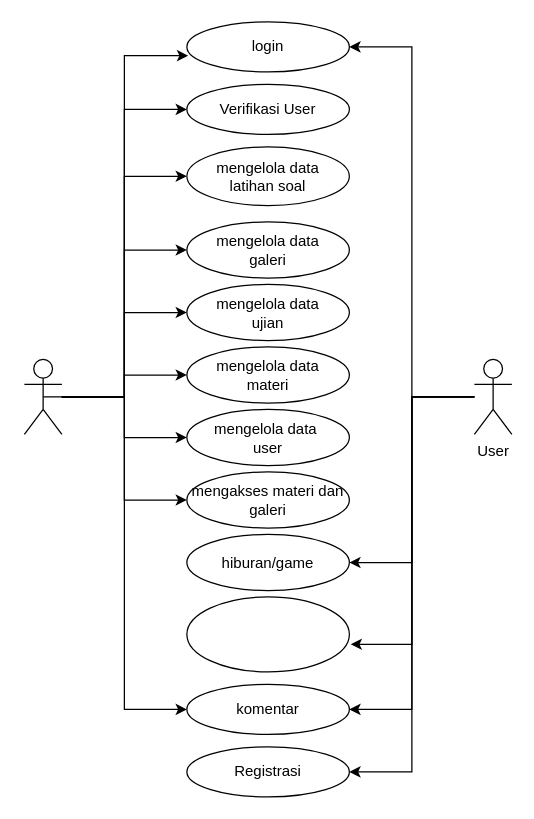
Some shapes in this 534 by 819 pixel diagram are drawn without their labels. Here are the shapes that lost their labels. From the top down, the centre of each, then its label:
pixel 42 396: Admin
pixel 267 634: mengerjaka soal dan mengerjakan ujian
